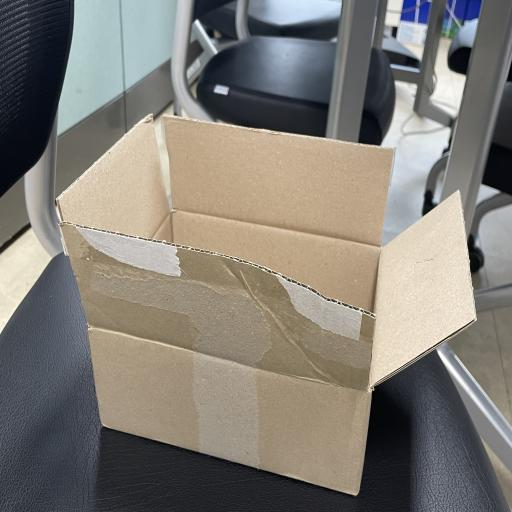box: (55, 113, 479, 499)
opened: (56, 114, 479, 392)
